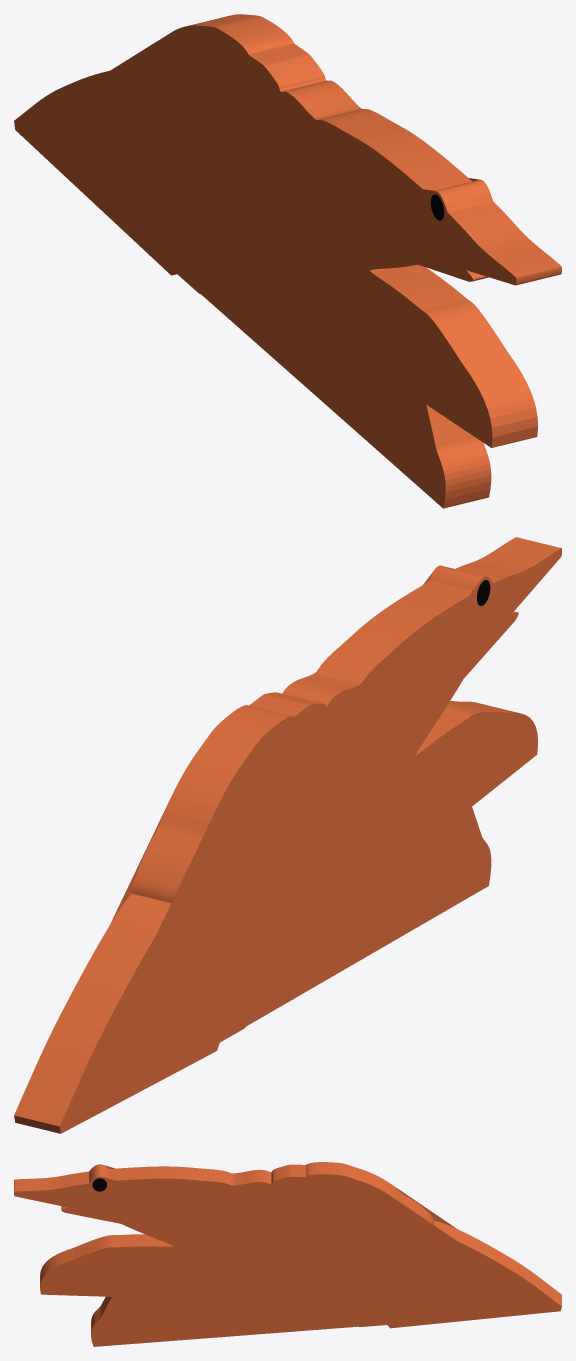
The model's file is Krill_.fbx.
3 views of the same model, one above another, from view 1: azimuth 30°, elevation 25°; view 2: azimuth 150°, elevation 25°; view 3: azimuth 270°, elevation 25° (orthographic). The views are drawn at different scales.
Parts seen in each view (by area): view 1: BézierCurve; view 2: BézierCurve; view 3: BézierCurve.
Part boxes in pixels (bbox=[...]): BézierCurve: bbox=[14, 14, 561, 508]; BézierCurve: bbox=[14, 537, 561, 1133]; BézierCurve: bbox=[14, 1162, 561, 1346].
Bounding box in the file's own units: 20.3 × 133 × 383.
